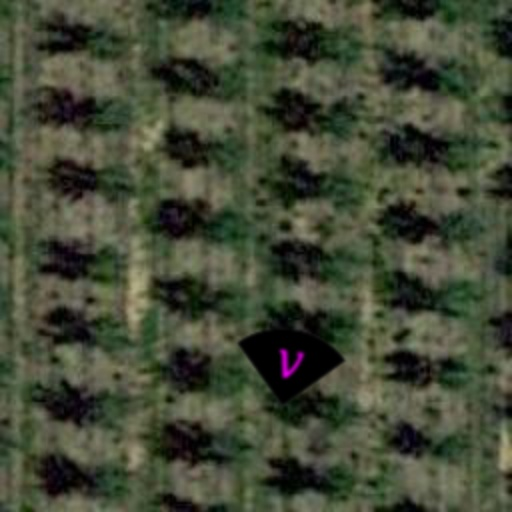quarter_circle: (228, 298, 352, 422)
